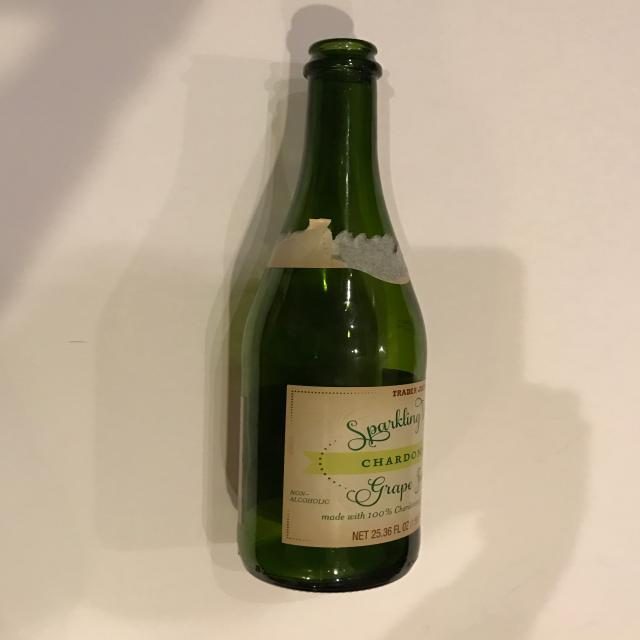glass: (236, 37, 432, 593)
